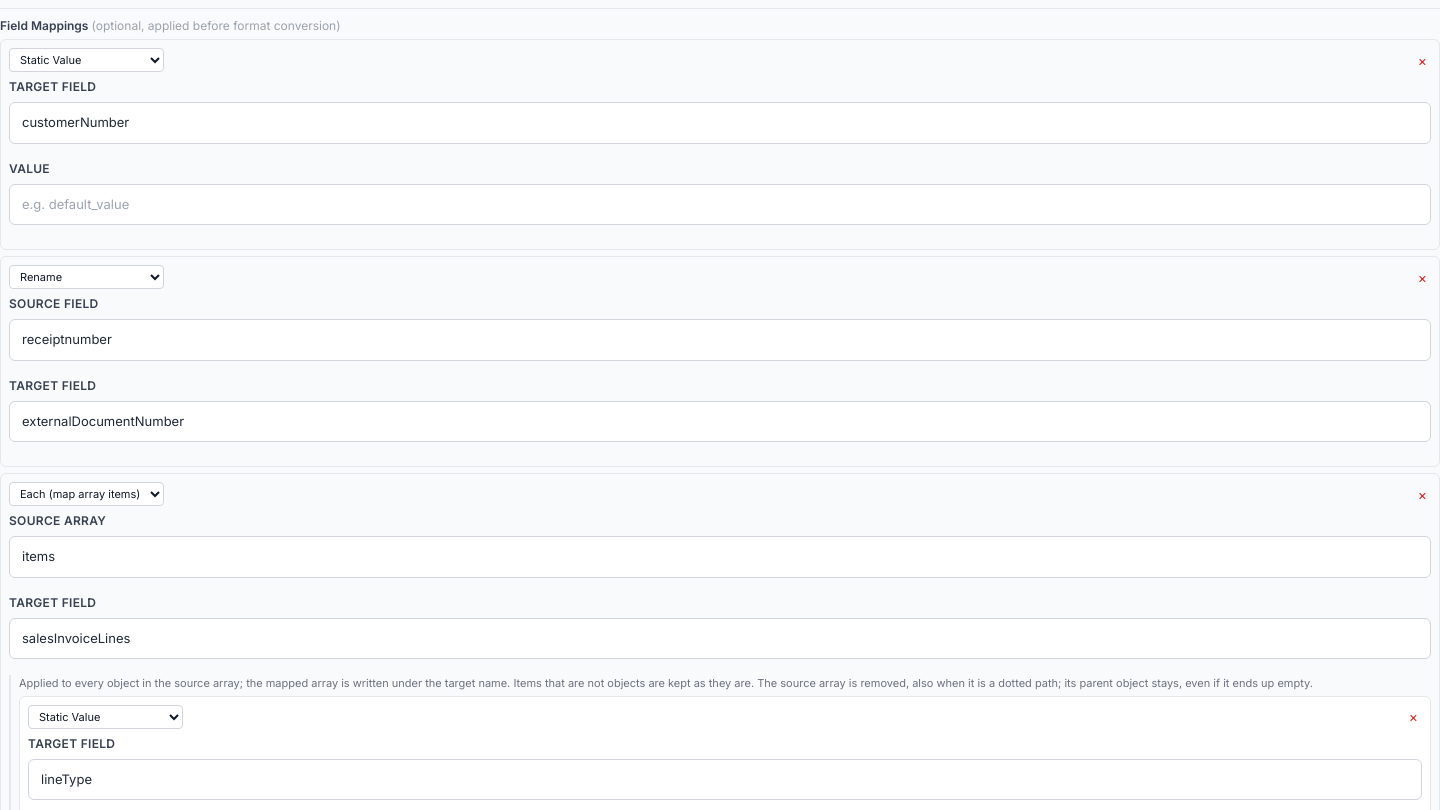
Test: changing a type keeps the row › an each row switched to rename and back still has its item mappings
Select "Rename" in the dropdown named "Type of mapping 3 (items → salesInvoiceLines)" at (86, 494), box [9,482,164,506]
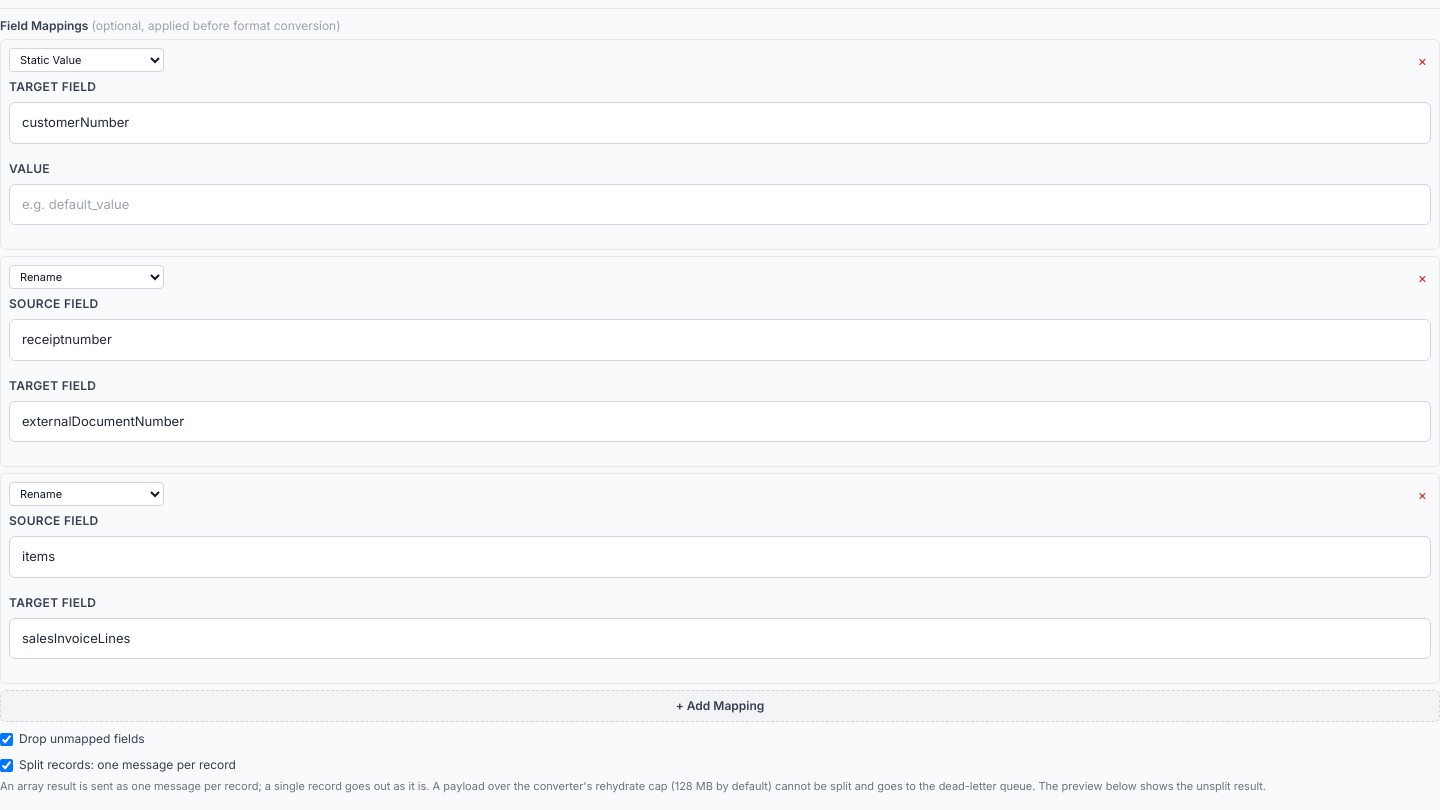
Select "Each (map array items)" in the dropdown named "Type of mapping 3 (items → salesInvoiceLines)" at (86, 494), box [9,482,164,506]
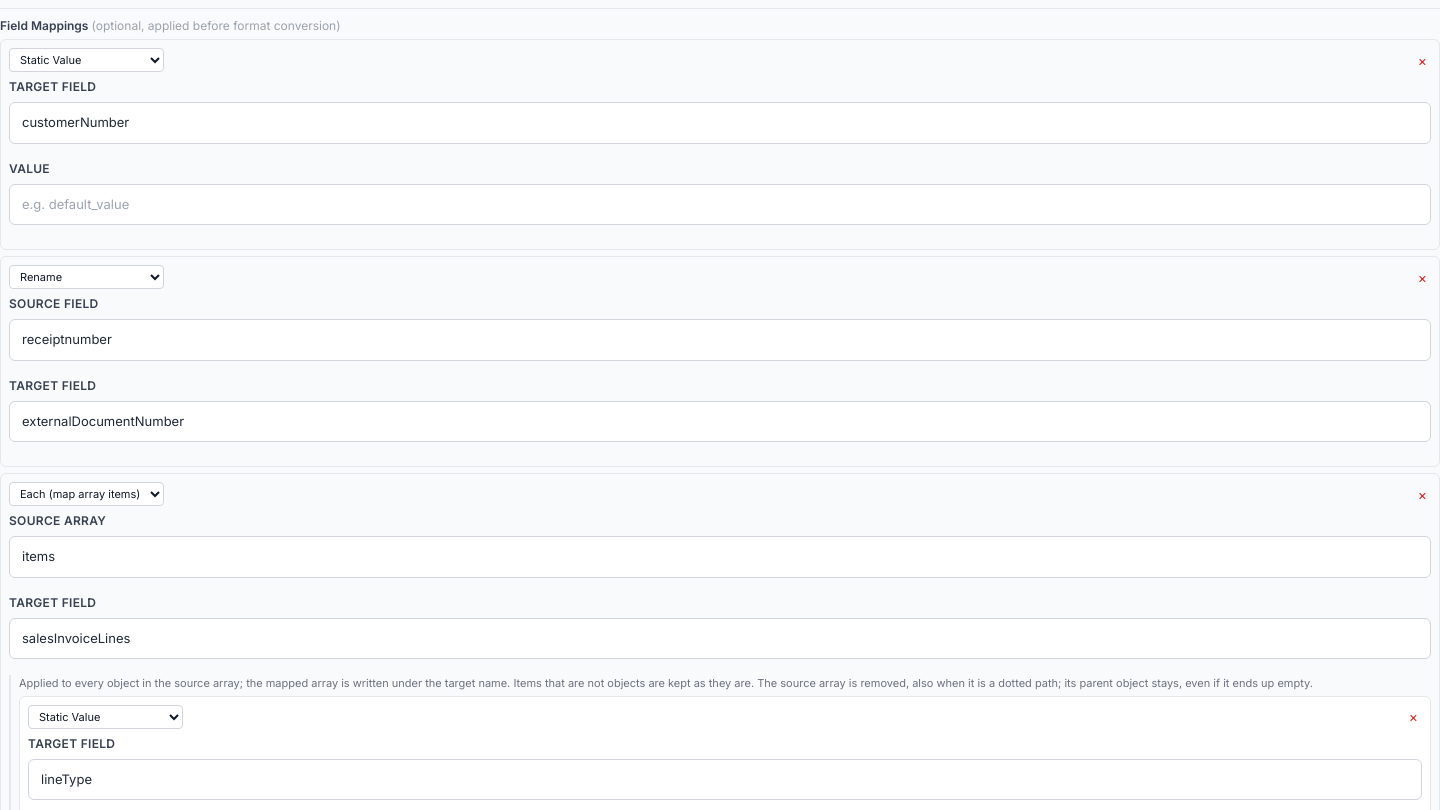
Check: the number of dropdowns named "Type of item mapping 1 of mapping 3 (lineType)" is 4
